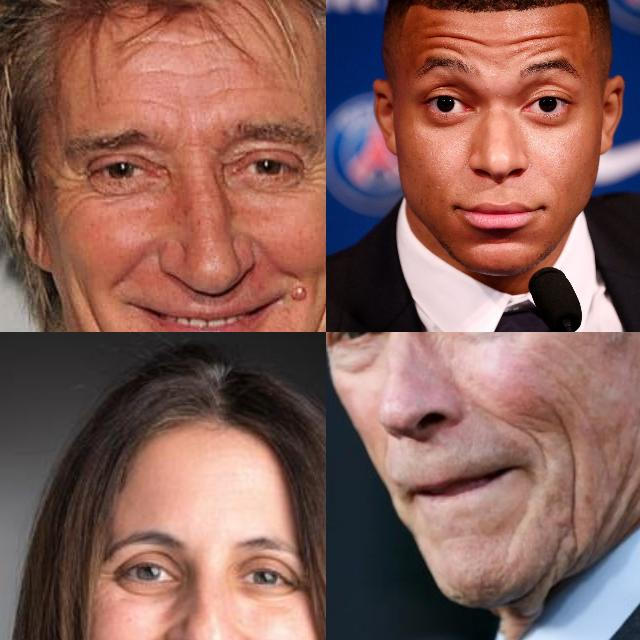crows_feet: (58, 169, 96, 205), (303, 152, 326, 196), (99, 564, 119, 596)
forehead: (154, 60, 228, 84), (420, 34, 484, 58), (510, 31, 570, 54), (148, 32, 216, 48), (134, 94, 180, 115), (210, 80, 256, 98)
gummy_smile: (486, 404, 542, 446), (134, 625, 166, 640), (238, 631, 271, 640)
masseter: (552, 417, 592, 527), (619, 440, 640, 505), (83, 297, 118, 332), (312, 268, 326, 332)
